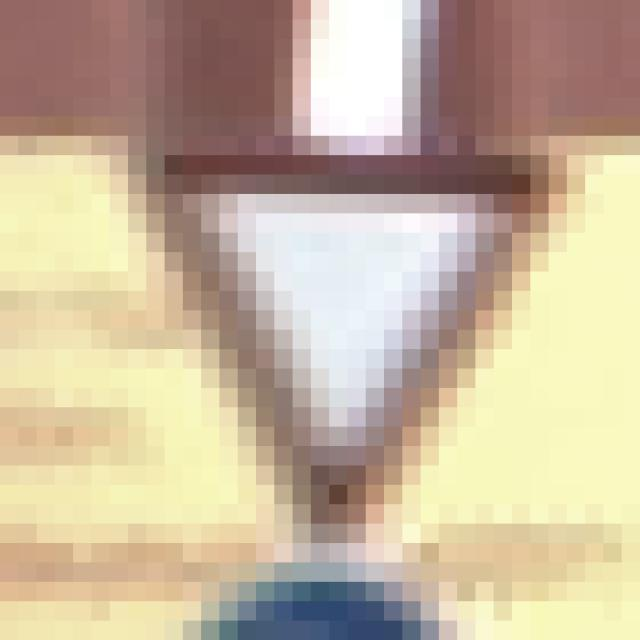Give Way: (111, 117, 550, 544)
